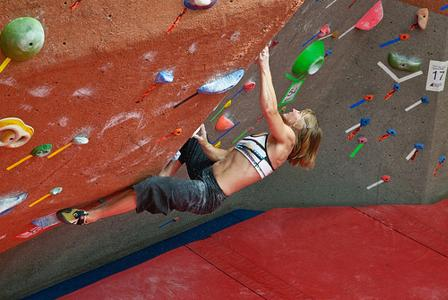person: (56, 47, 324, 227)
